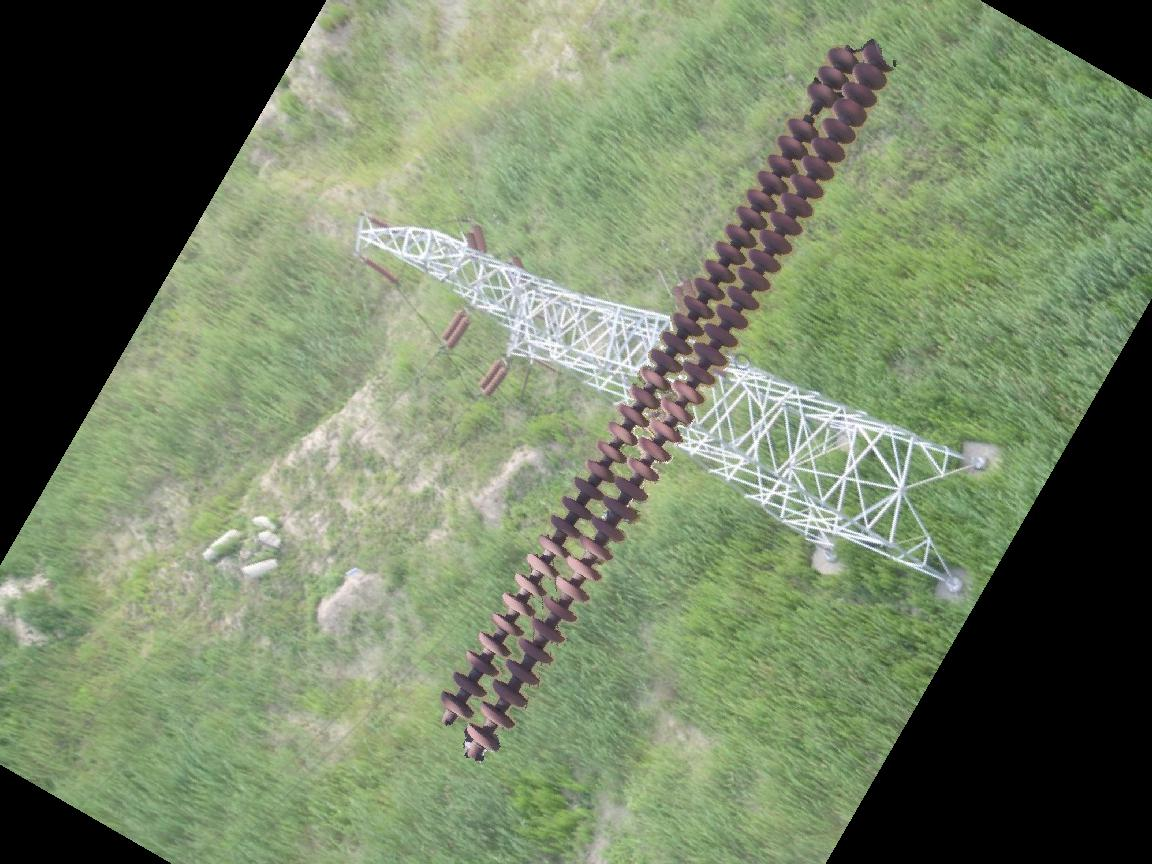insulator: (435, 39, 905, 763), (474, 350, 514, 399), (437, 307, 475, 354), (358, 255, 405, 286), (460, 221, 489, 256)
insulator_stringdrop: (786, 80, 840, 143)
